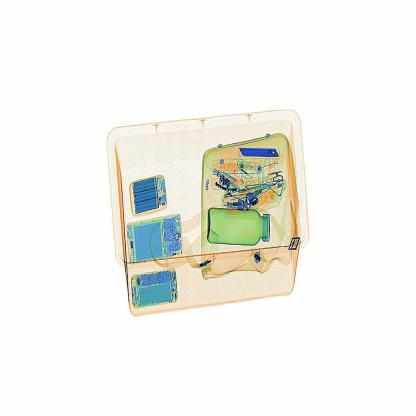pliers: (238, 137, 283, 166)
